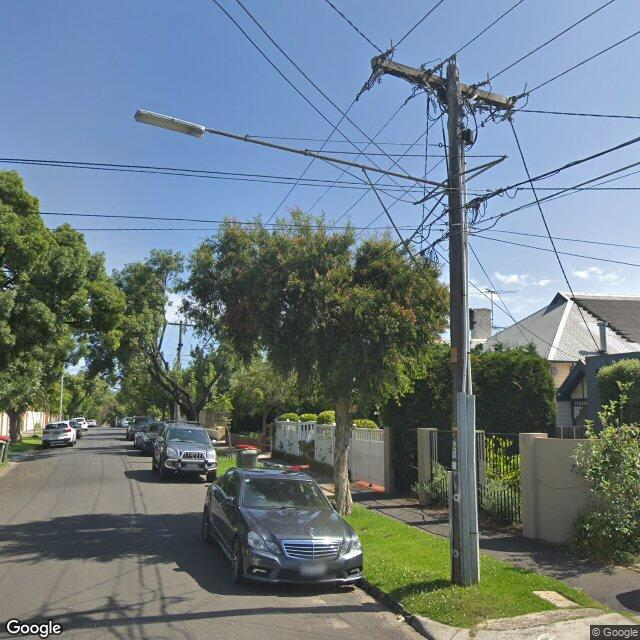crossarm: (372, 57, 514, 109), (167, 322, 196, 327)
streetlight: (134, 109, 450, 189)
timber-pole: (446, 62, 475, 586), (175, 321, 182, 424)
